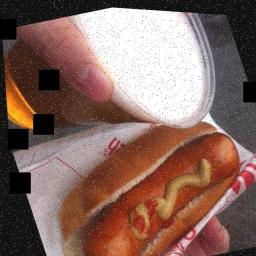hotdog: (45, 110, 256, 256)
